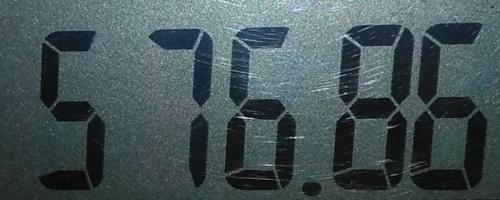.: (299, 179, 323, 199)
